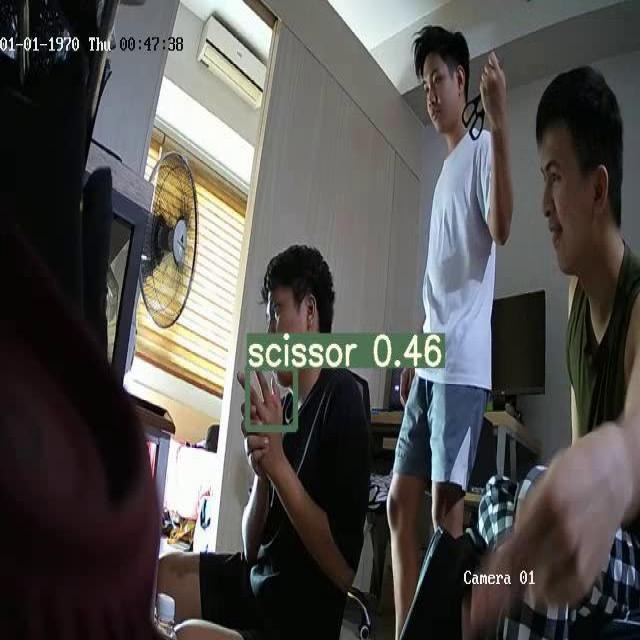scissor: (463, 54, 505, 138)
